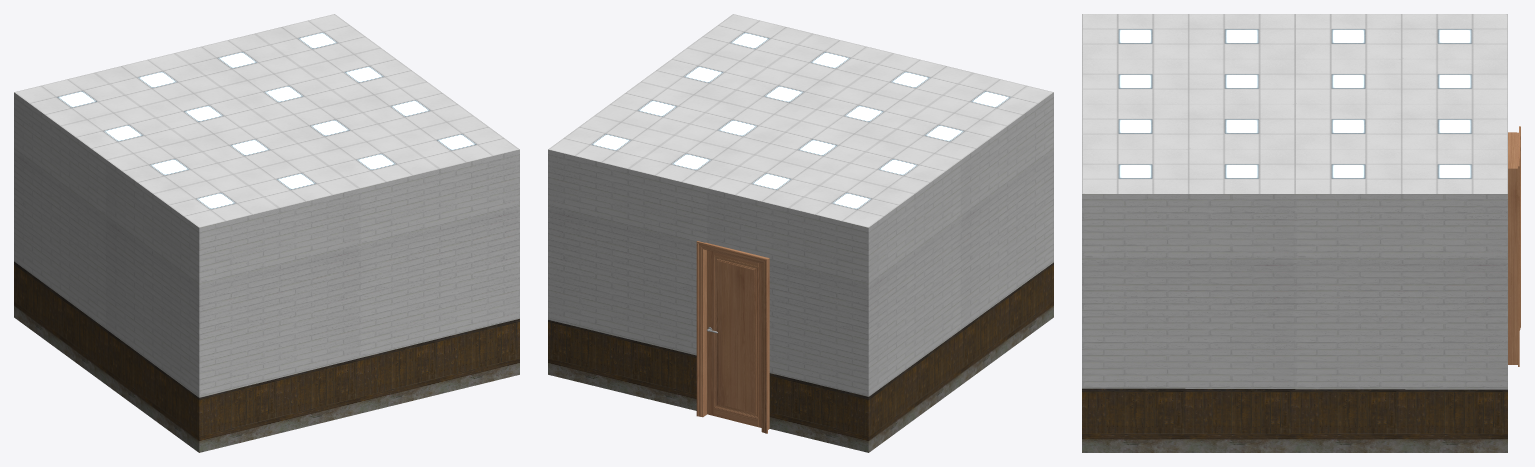
The model's file is entry.gltf.
3 views of the same model, side by side, from view 1: azimuth 30°, elevation 25°; view 2: azimuth 150°, elevation 25°; view 3: azimuth 270°, elevation 25° (orthographic). The views are drawn at different scales.
Parts seen in each view (by area): view 1: walls; view 2: walls, door; view 3: walls, door.
Part boxes in pixels (<box>): walls: <box>14,14,519,452</box>; walls: <box>548,14,1053,452</box>; door: <box>696,241,769,433</box>; walls: <box>1082,14,1507,452</box>; door: <box>1508,126,1520,366</box>.
Size of the model in its own units: 4.17 by 2.8 by 4.29.
9 materials, 6 textured.
